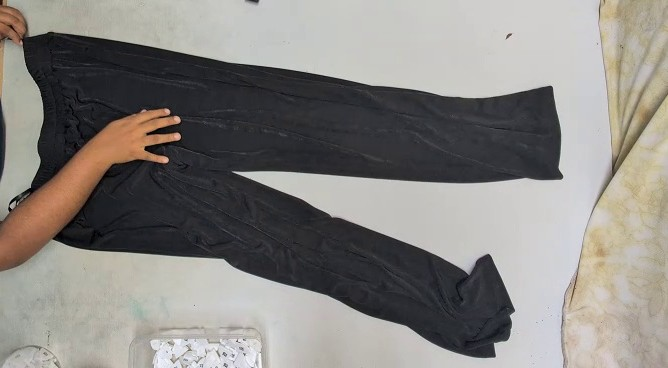TROUSER: (57, 11, 594, 347)
